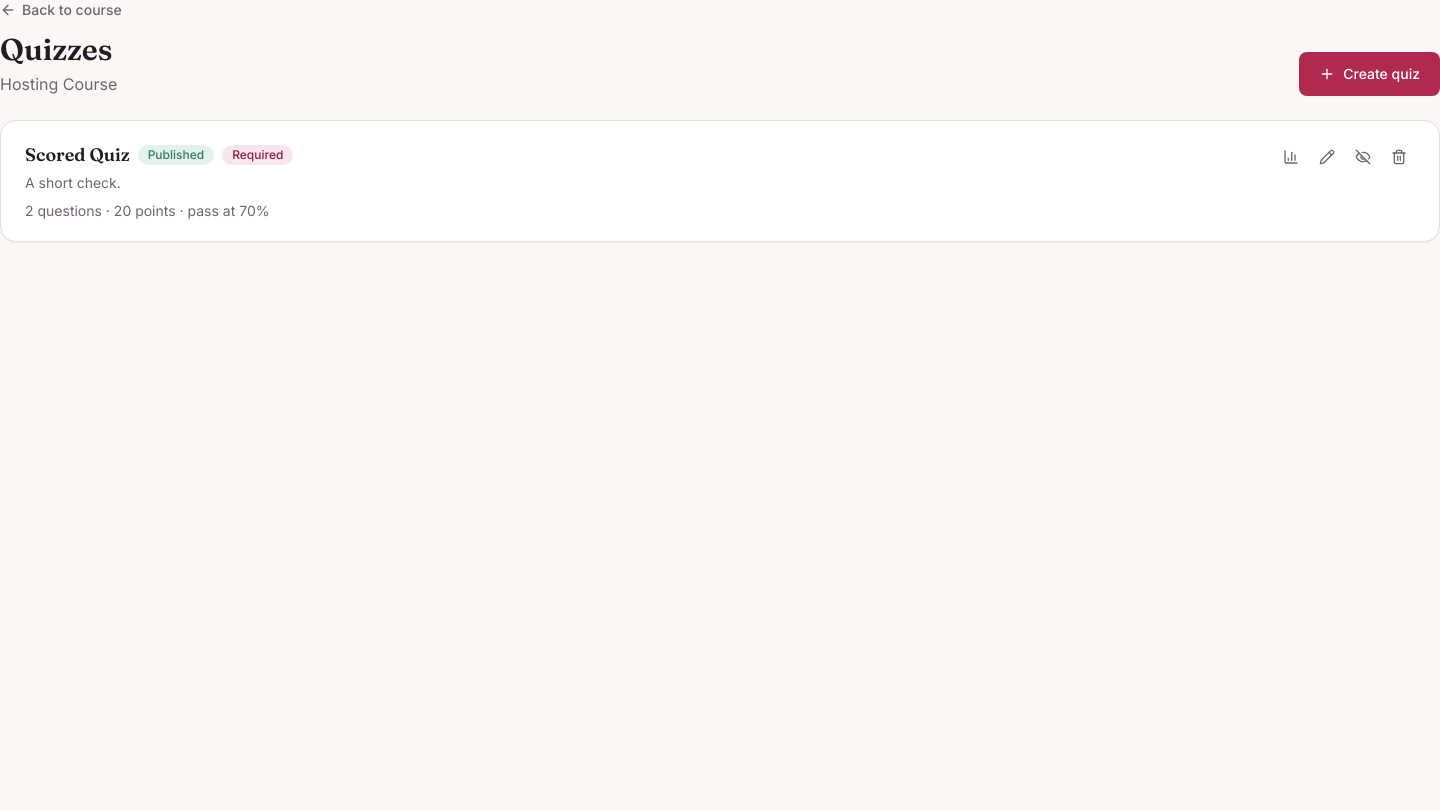
Scenario: QuizManagementPage › opens the results modal with a summary and attempts
Click the button named "View results for Scored Quiz": (1291, 157) [1275,141,1307,173]
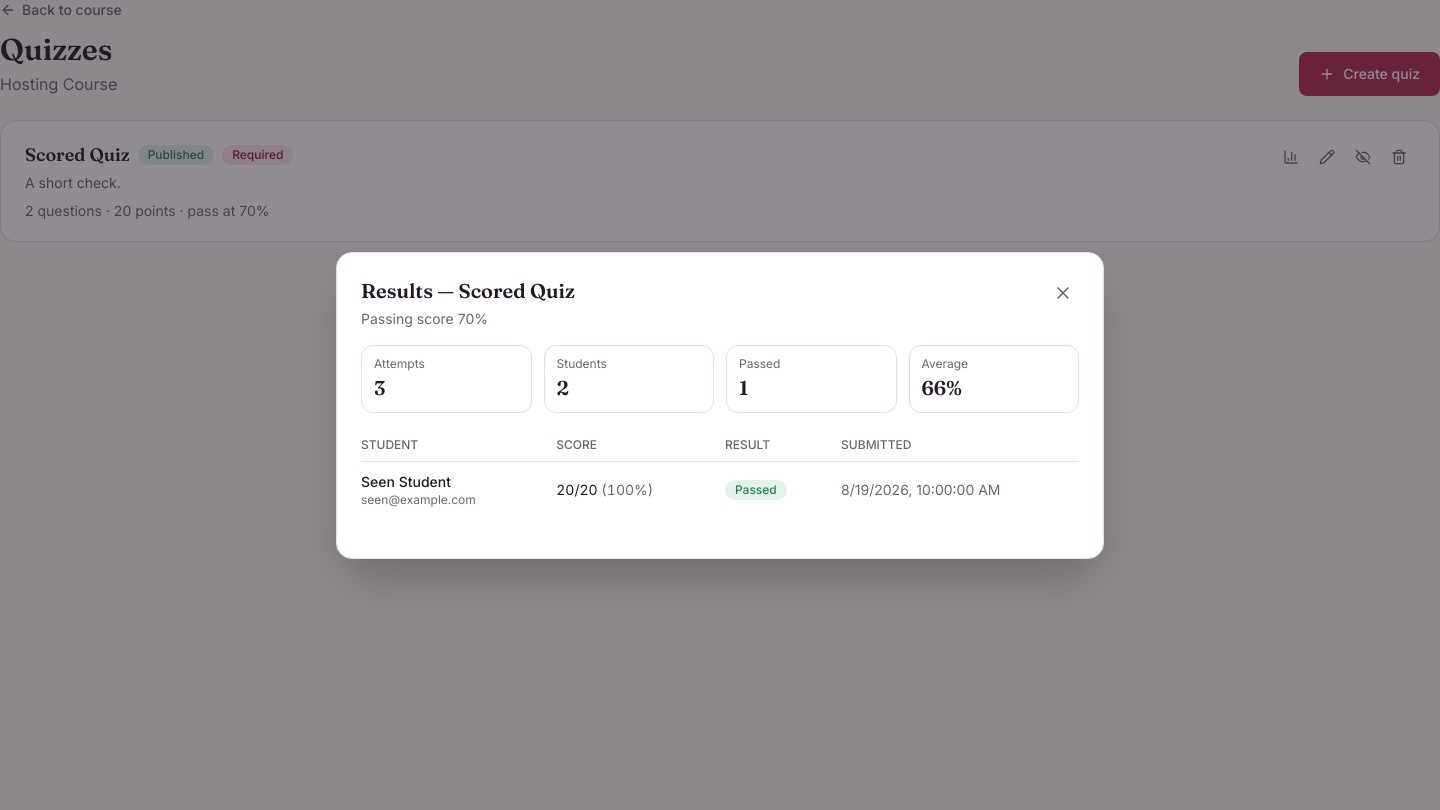
Result: the text "66%" is shown at [922,374,962,400]
Result: the text "Passed" next to "Average" is shown at [739,356,780,370]
Result: the text "Seen Student" is shown at [361,472,451,490]
